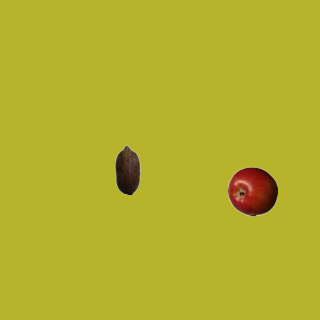Apple Braeburn: (227, 166, 277, 216)
Nut Pecan: (102, 144, 152, 194)
